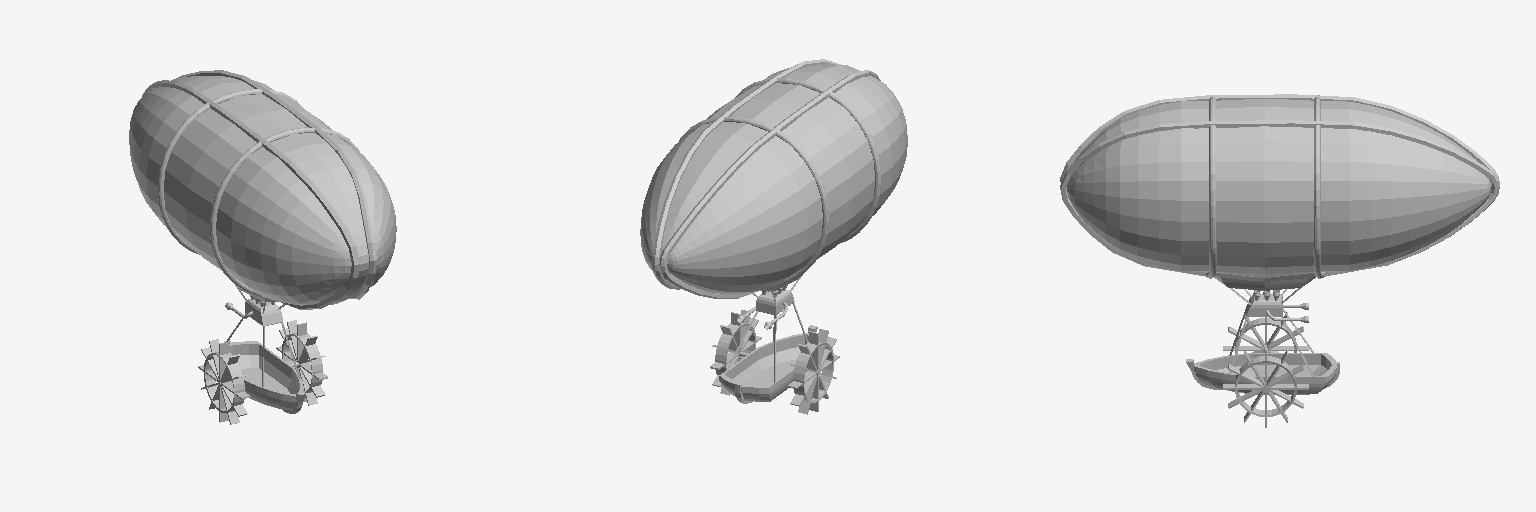
Rendered from Balloon.obj.
3 views of the same model, side by side, from view 1: azimuth 30°, elevation 25°; view 2: azimuth 150°, elevation 25°; view 3: azimuth 270°, elevation 25° (orthographic).
Parts seen in each view (by area): view 1: Balloon.001, Boat, Rope4Mesh, Rope3Mesh, Rope1Mesh, Rope2Mesh, Wheel.001, Wheel, Engine.001; view 2: Balloon.001, Boat, Rope4Mesh, Rope3Mesh, Rope2Mesh, Rope1Mesh, Wheel.001, Engine.001, Wheel; view 3: Balloon.001, Rope3Mesh, Boat, Rope4Mesh, Rope1Mesh, Rope2Mesh, Wheel, Engine.001.
Boxes of the visible parts, box(x1,y1,x2,y2) form: Balloon.001: box(129, 76, 396, 305); Boat: box(224, 340, 306, 413); Rope4Mesh: box(142, 80, 359, 309); Rope3Mesh: box(173, 70, 376, 299); Rope1Mesh: box(210, 127, 359, 296); Rope2Mesh: box(158, 89, 303, 254); Wheel.001: box(204, 352, 244, 412); Wheel: box(282, 333, 322, 392); Engine.001: box(245, 299, 282, 326); Balloon.001: box(640, 64, 907, 293); Boat: box(719, 325, 817, 403); Rope4Mesh: box(659, 70, 880, 298); Rope3Mesh: box(652, 59, 840, 289); Rope2Mesh: box(679, 116, 828, 285); Rope1Mesh: box(735, 78, 880, 242); Wheel.001: box(793, 341, 833, 402); Engine.001: box(756, 290, 794, 315); Wheel: box(715, 322, 755, 374); Balloon.001: box(1067, 98, 1491, 290); Rope3Mesh: box(1060, 120, 1499, 276); Boat: box(1186, 353, 1339, 394); Rope4Mesh: box(1060, 94, 1499, 190); Rope1Mesh: box(1205, 96, 1216, 278); Rope2Mesh: box(1313, 95, 1323, 278); Wheel: box(1235, 356, 1296, 416); Engine.001: box(1246, 294, 1282, 316).
Size of the model in its own units: 3.18 by 5.76 by 7.64.